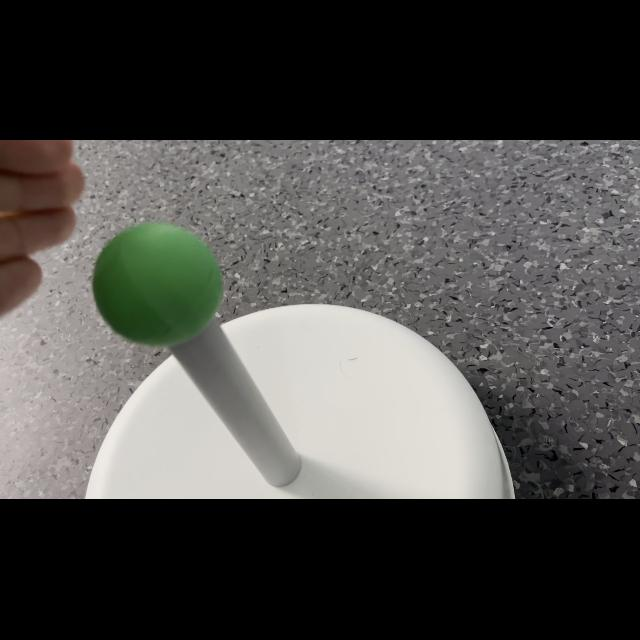objects: (86, 216, 230, 350)
